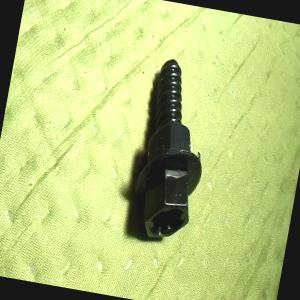parafuso: (126, 56, 221, 246)
